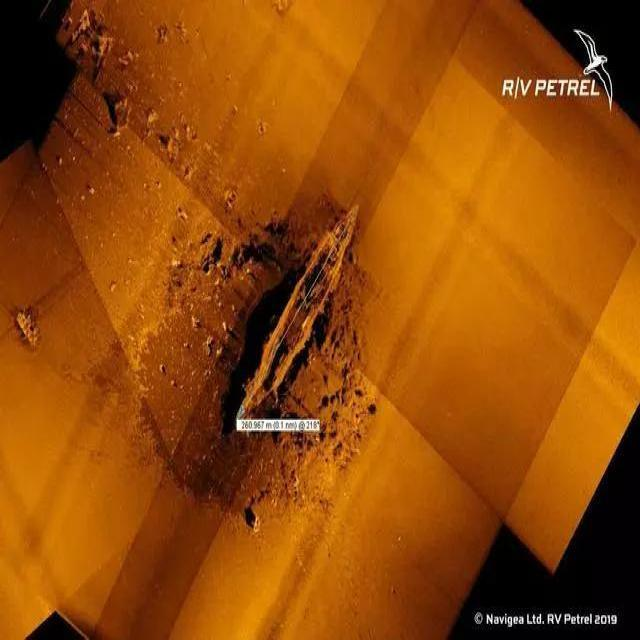shipwreck: (235, 200, 361, 423)
